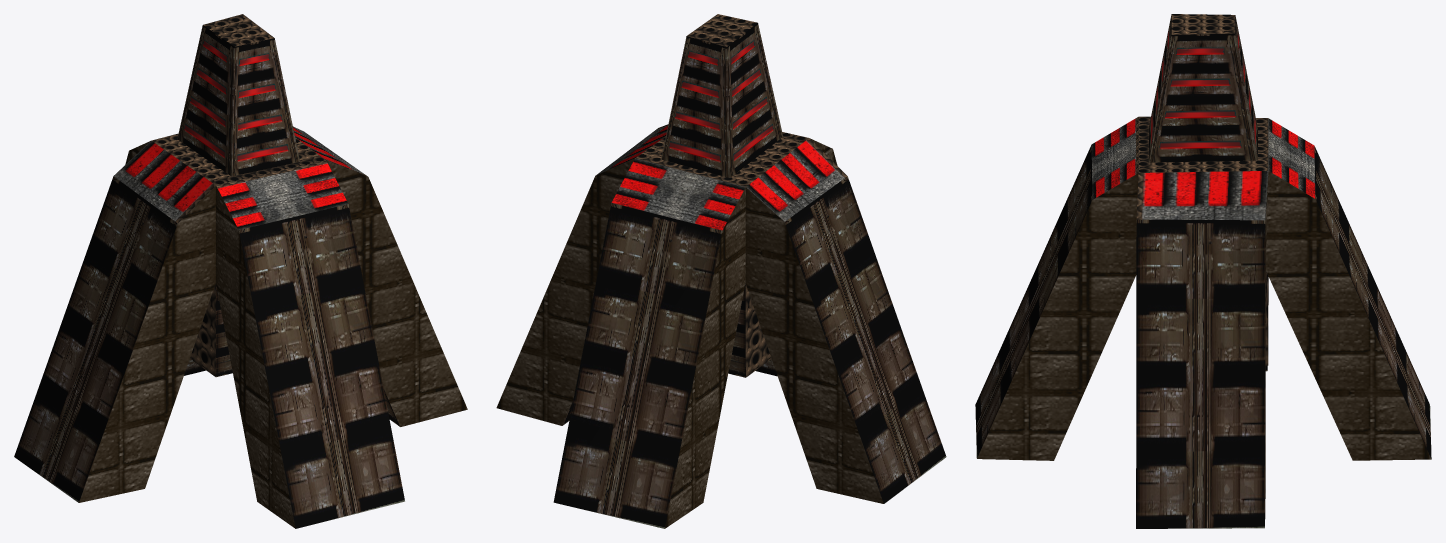
File: City_Building007.fbx
3 renders of one model, left to right at view 1: azimuth 30°, elevation 25°; view 2: azimuth 150°, elevation 25°; view 3: azimuth 270°, elevation 25°, orthographic.
Parts seen in each view (by area): view 1: City_Building_007:Building_007; view 2: City_Building_007:Building_007; view 3: City_Building_007:Building_007.
Boxes of the visible parts, left/top/right/bottom form: City_Building_007:Building_007: left=14, top=14, right=467, bottom=528; City_Building_007:Building_007: left=496, top=14, right=946, bottom=528; City_Building_007:Building_007: left=975, top=14, right=1431, bottom=528.
Bounding box in the file's own units: 920 × 914 × 922.
1 material, 1 textured.
